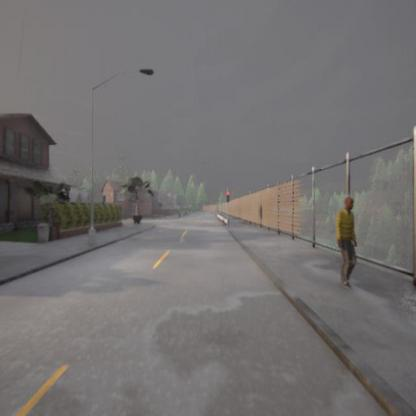person: (335, 198, 359, 289)
